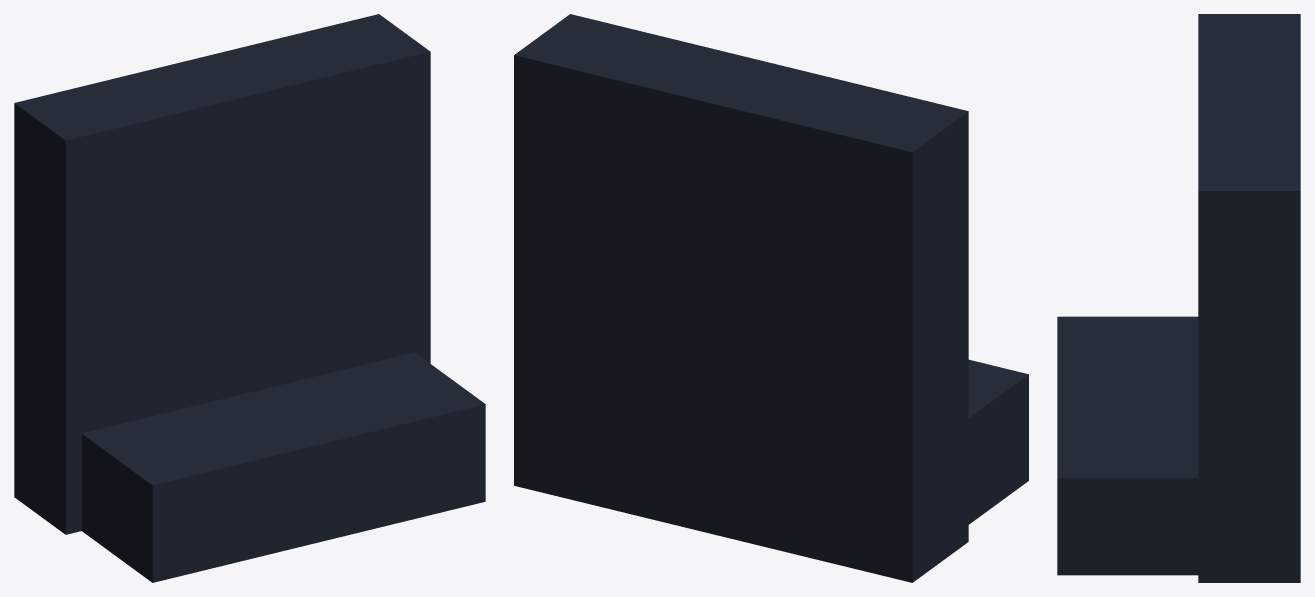
Rendered from COL_CustomizeKiosk_Body.obj.
3 views of the same model, side by side, from view 1: azimuth 30°, elevation 25°; view 2: azimuth 150°, elevation 25°; view 3: azimuth 270°, elevation 25° (orthographic). The views are drawn at different scales.
Visible parts, largest first — view 1: COL_CustomizeKiosk_RearFrame, COL_CustomizeKiosk_PedestalPlinth; view 2: COL_CustomizeKiosk_RearFrame, COL_CustomizeKiosk_PedestalPlinth; view 3: COL_CustomizeKiosk_RearFrame, COL_CustomizeKiosk_PedestalPlinth.
Part boxes in pixels (bbox=[...]): COL_CustomizeKiosk_RearFrame: bbox=[14, 14, 430, 534]; COL_CustomizeKiosk_PedestalPlinth: bbox=[81, 352, 485, 582]; COL_CustomizeKiosk_RearFrame: bbox=[514, 14, 968, 582]; COL_CustomizeKiosk_PedestalPlinth: bbox=[968, 359, 1028, 524]; COL_CustomizeKiosk_RearFrame: bbox=[1198, 14, 1300, 582]; COL_CustomizeKiosk_PedestalPlinth: bbox=[1057, 316, 1198, 575].
Size of the model in its own units: 9.2 by 9.5 by 5.35.
Materials: 1 (1 with a texture image).
